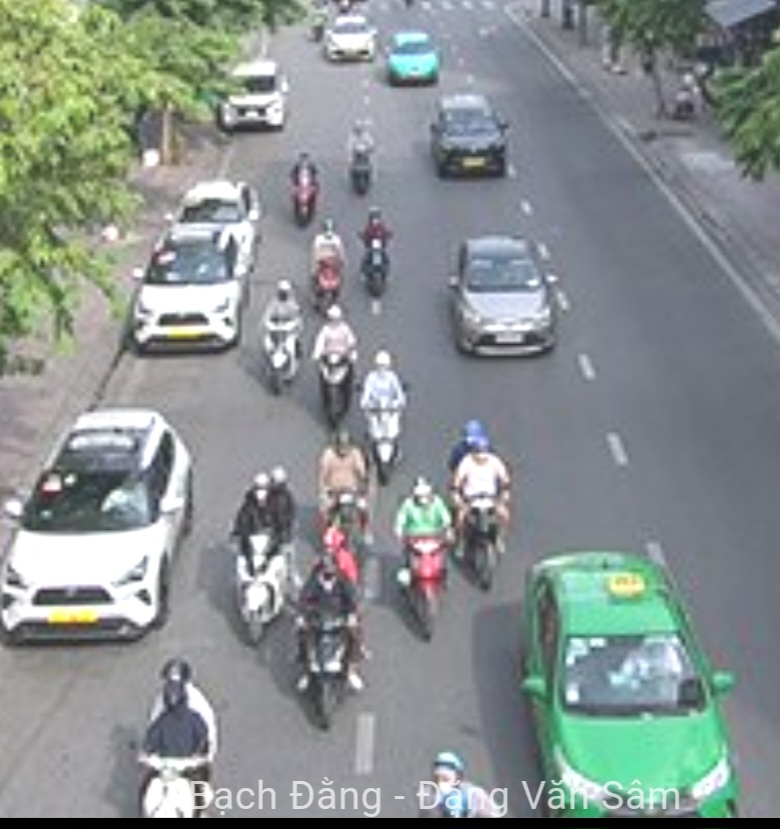car: (518, 555, 732, 821), (3, 395, 191, 643), (131, 235, 251, 355), (449, 236, 561, 362), (431, 92, 511, 183), (218, 61, 289, 130), (385, 31, 442, 87), (326, 16, 377, 64)
